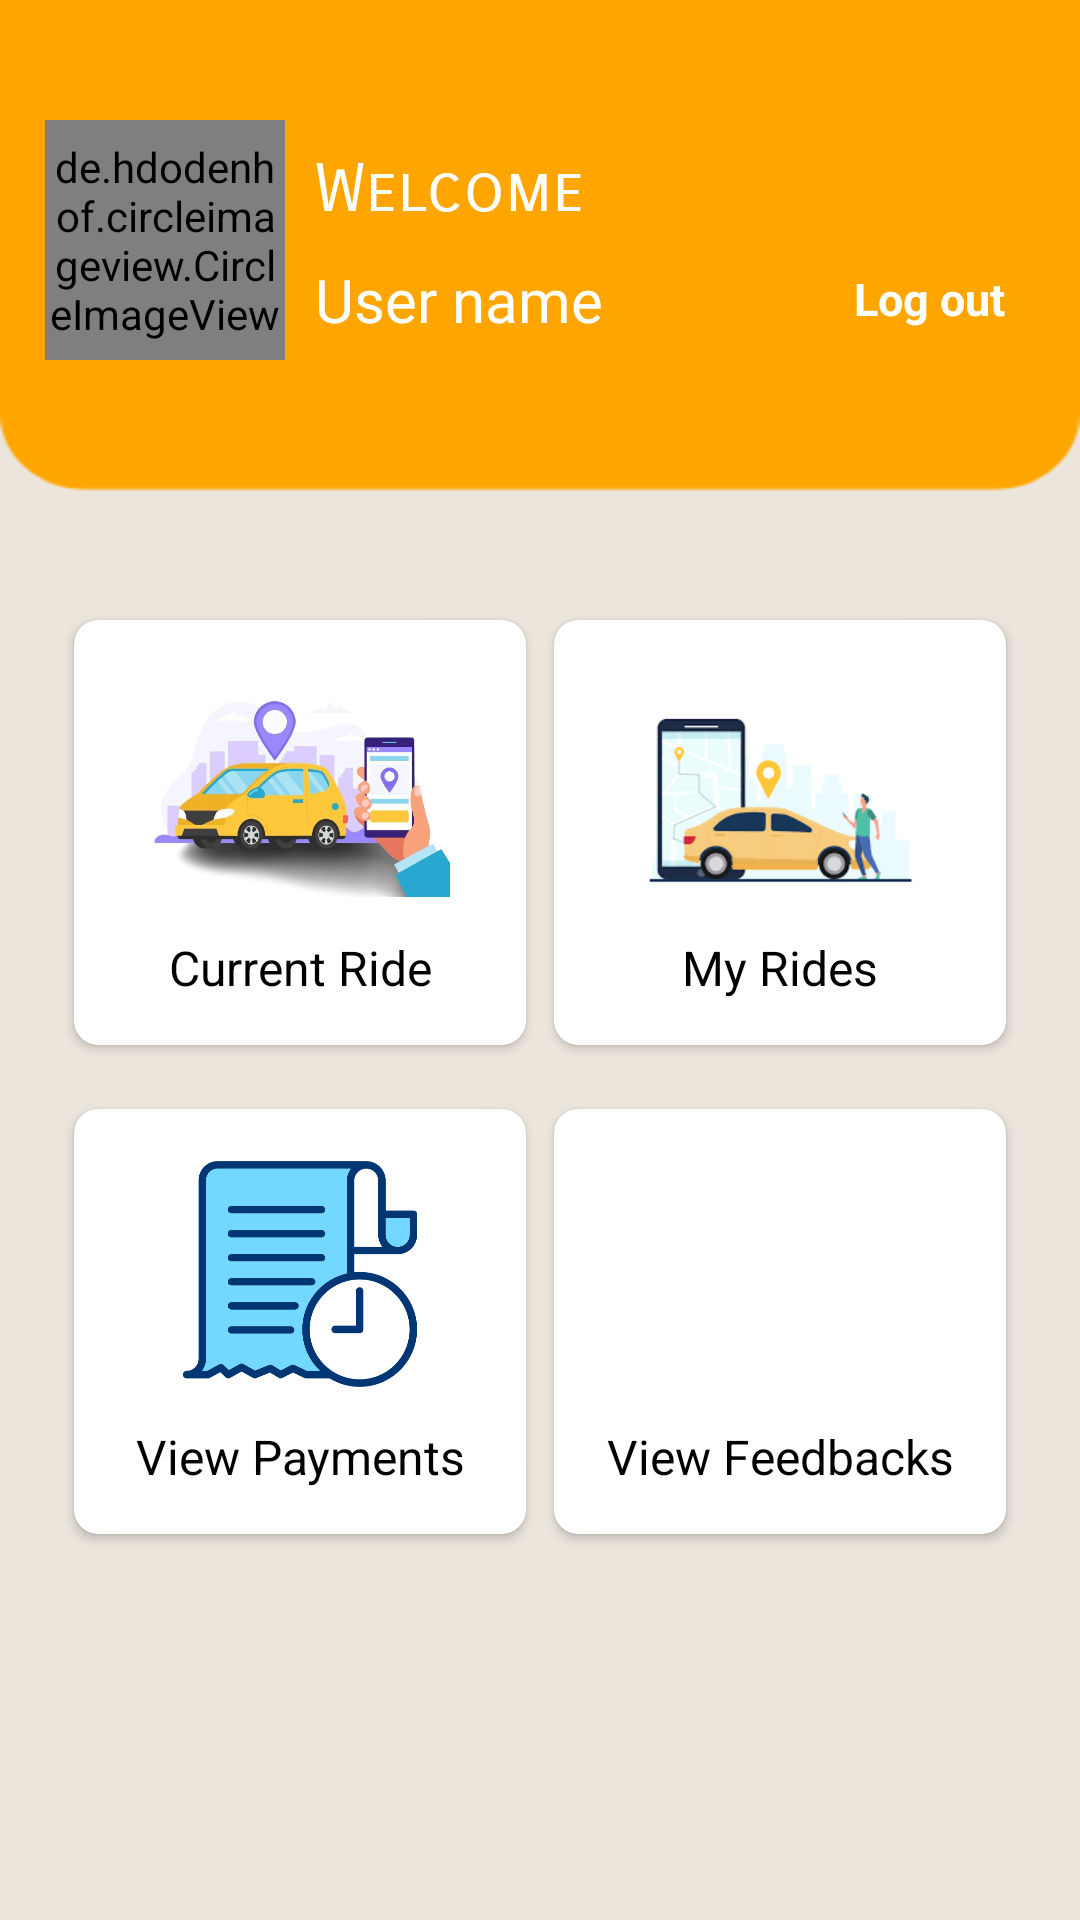

Where icons sit on this 1080px x 1920px app screen, as (x1, y1, x2, y2):
transaction: (183, 1161, 417, 1387)
